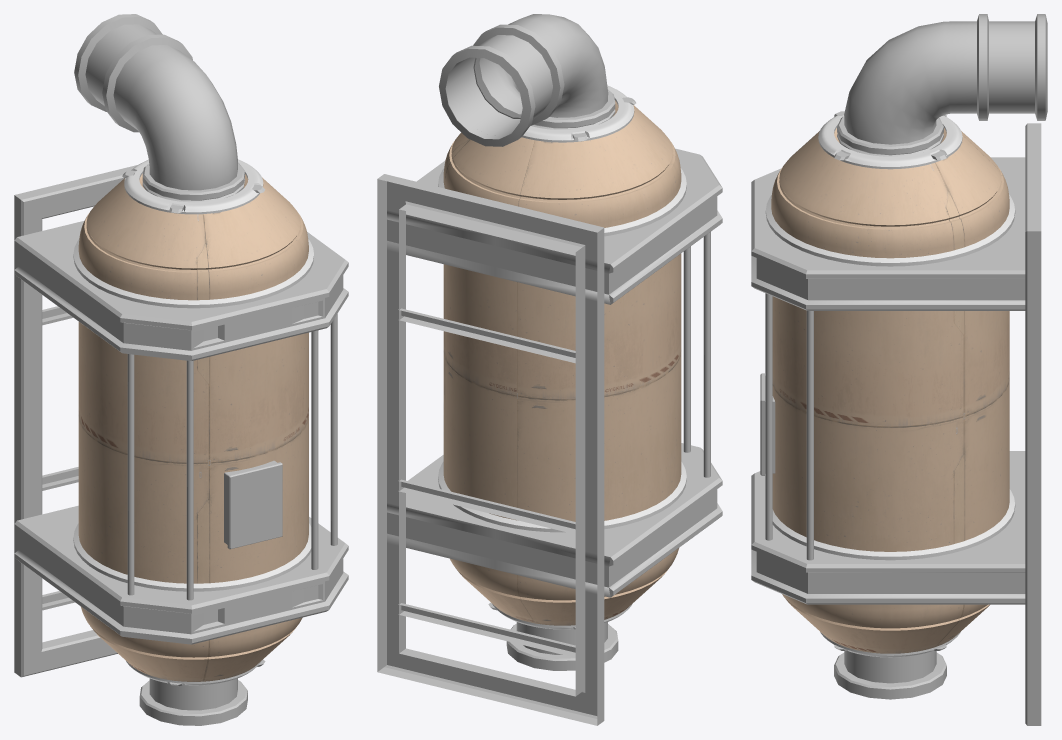
The model's file is KB3D_CBP_WaterTank_D.fbx.
3 renders of one model, left to right at view 1: azimuth 30°, elevation 25°; view 2: azimuth 150°, elevation 25°; view 3: azimuth 270°, elevation 25°, orthographic. The views are drawn at different scales.
Visible parts, largest first — view 1: KB3D_CBP_WaterTank_D_Main; view 2: KB3D_CBP_WaterTank_D_Main; view 3: KB3D_CBP_WaterTank_D_Main.
Boxes of the visible parts, bbox=[...] form: KB3D_CBP_WaterTank_D_Main: bbox=[14, 14, 348, 725]; KB3D_CBP_WaterTank_D_Main: bbox=[377, 14, 722, 725]; KB3D_CBP_WaterTank_D_Main: bbox=[751, 14, 1047, 725].
Bounding box in the file's own units: 279 × 739 × 302.
